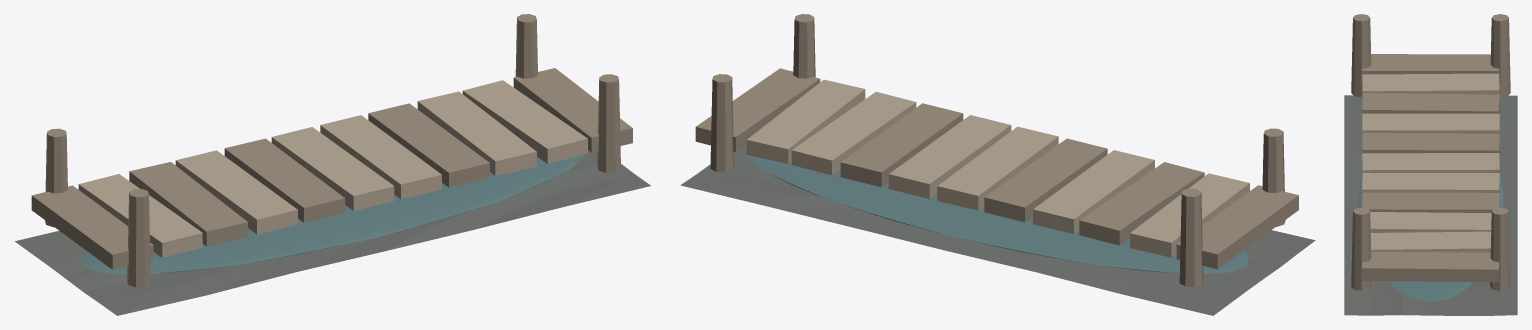
Rendered from tser_sodden_boardwalk.glb.
3 views of the same model, side by side, from view 1: azimuth 30°, elevation 25°; view 2: azimuth 150°, elevation 25°; view 3: azimuth 270°, elevation 25° (orthographic). The views are drawn at different scales.
Visible parts, largest first — view 1: material_02, material_03, material_00, material_01; view 2: material_02, material_03, material_00, material_01; view 3: material_02, material_03, material_00, material_01.
Part boxes in pixels (left/top/right/bottom): material_02: left=31, top=14, right=632, bottom=287; material_03: left=78, top=80, right=587, bottom=257; material_00: left=15, top=150, right=650, bottom=315; material_01: left=81, top=154, right=584, bottom=273; material_02: left=695, top=14, right=1298, bottom=286; material_03: left=746, top=79, right=1249, bottom=257; material_00: left=680, top=145, right=1315, bottom=315; material_01: left=747, top=155, right=1248, bottom=273; material_02: left=1351, top=14, right=1510, bottom=290; material_03: left=1362, top=73, right=1499, bottom=252; material_00: left=1344, top=95, right=1517, bottom=315; material_01: left=1358, top=170, right=1503, bottom=301.
Bounding box in the file's own units: 3 × 0.5882 × 1.
